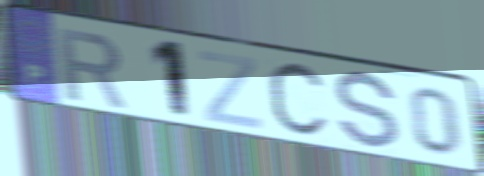0: (407, 86, 467, 159)
1: (147, 38, 194, 126)
C: (264, 59, 332, 143)
R: (55, 24, 130, 111)
S: (333, 70, 402, 154)
Z: (195, 48, 264, 132)
